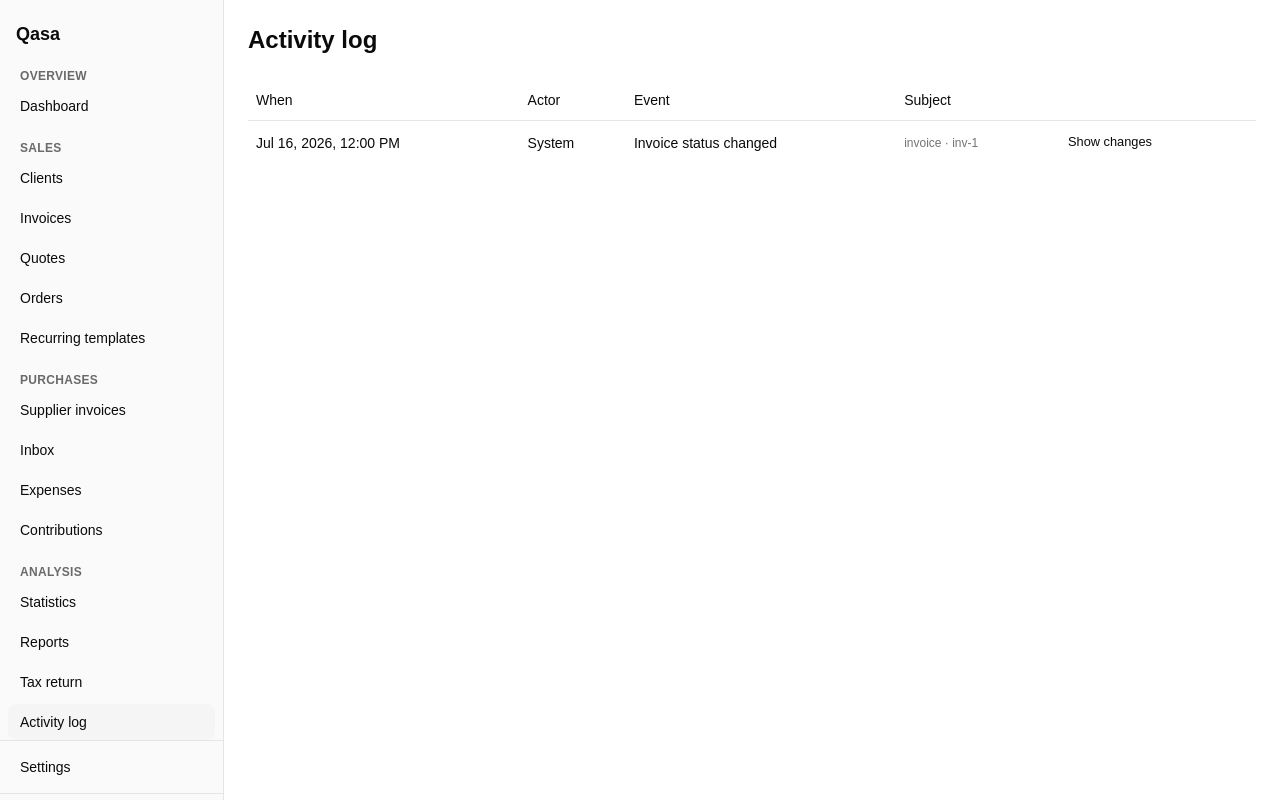
Test: activity log › expands the before/after diff for a status change
Click the button "Show changes" at {"x": 1110, "y": 142}, box [1057, 128, 1163, 156]
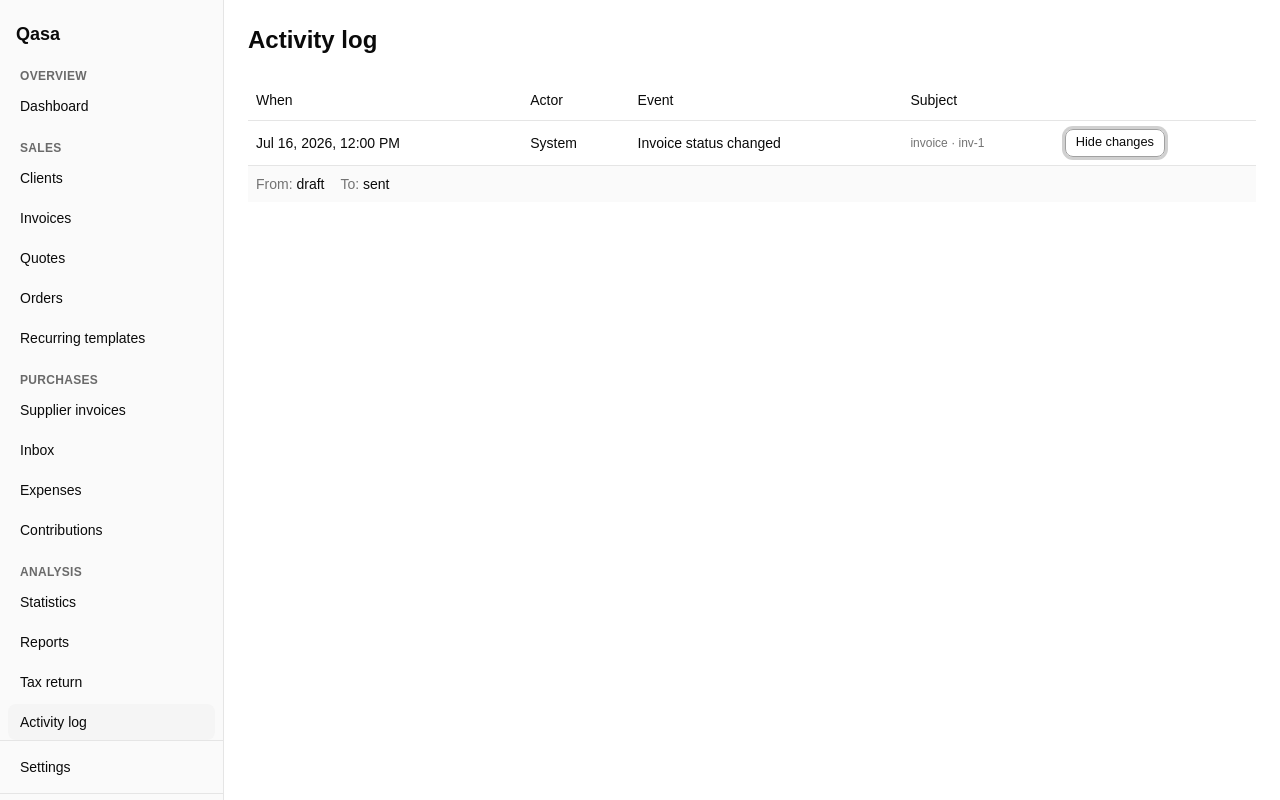
Now the text "draft" is shown, box [296, 176, 324, 192]
Now the text "sent" is shown, box [363, 176, 390, 192]
